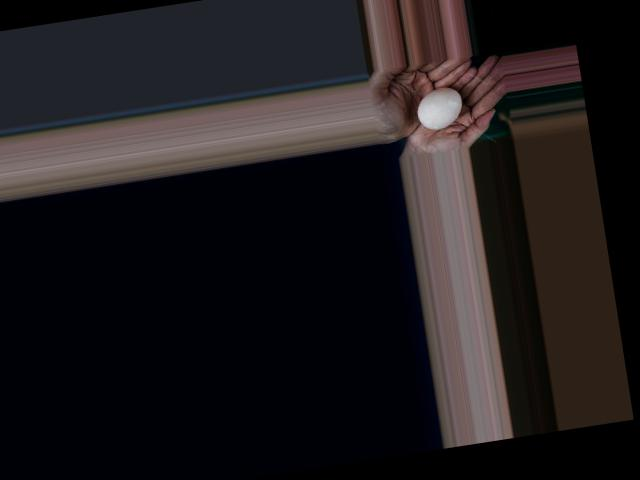egg: (415, 85, 465, 130)
